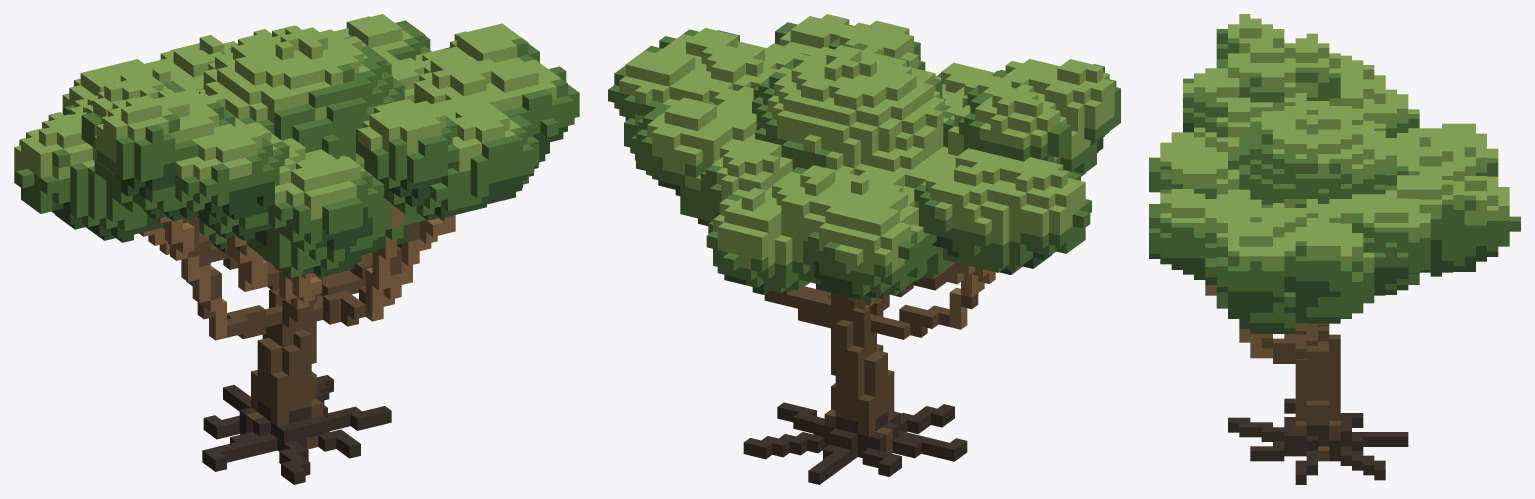
The model's file is ancient_oak_v2_mid.glb.
3 views of the same model, side by side, from view 1: azimuth 30°, elevation 25°; view 2: azimuth 150°, elevation 25°; view 3: azimuth 270°, elevation 25° (orthographic). The views are drawn at different scales.
Visible parts, largest first — view 1: ancient_oak_v2_mid; view 2: ancient_oak_v2_mid; view 3: ancient_oak_v2_mid.
Part boxes in pixels (bbox=[...]): ancient_oak_v2_mid: bbox=[14, 14, 579, 484]; ancient_oak_v2_mid: bbox=[608, 14, 1120, 484]; ancient_oak_v2_mid: bbox=[1149, 14, 1520, 484].
Size of the model in its own units: 10.75 by 8.5 by 8.25.
Materials: 1 (1 with a texture image).
